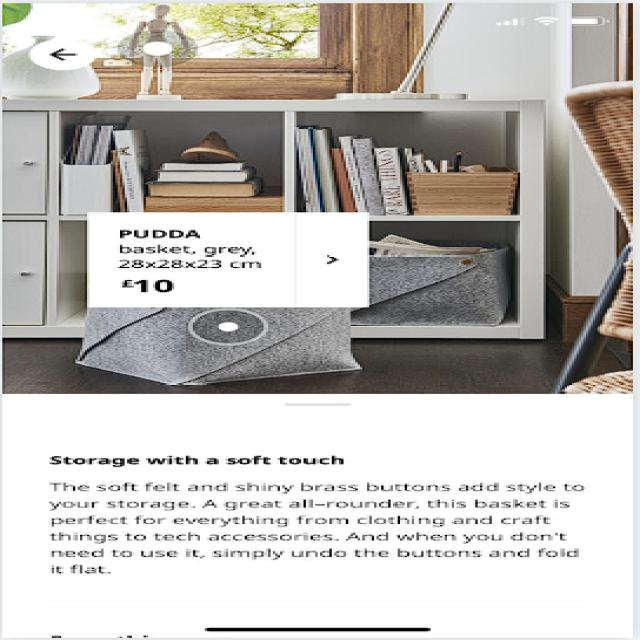icon button: (22, 26, 118, 79)
image: (0, 88, 640, 396)
spacer: (12, 404, 612, 441)
text: (21, 446, 619, 590)
